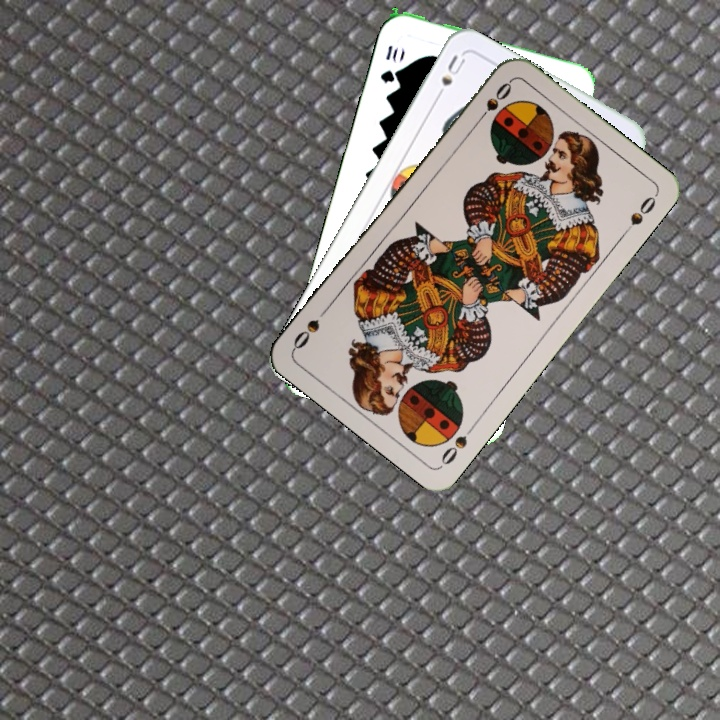G10: (376, 41, 402, 86)
SO: (472, 76, 515, 127), (436, 419, 479, 468)
SU: (430, 51, 468, 105)
